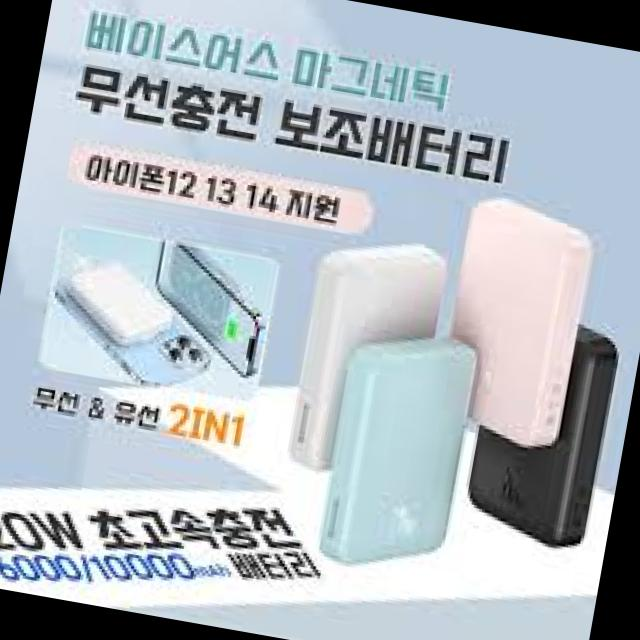power_bank: (311, 316, 488, 590), (426, 186, 602, 457), (456, 298, 626, 558), (286, 223, 455, 478), (62, 248, 182, 354)
